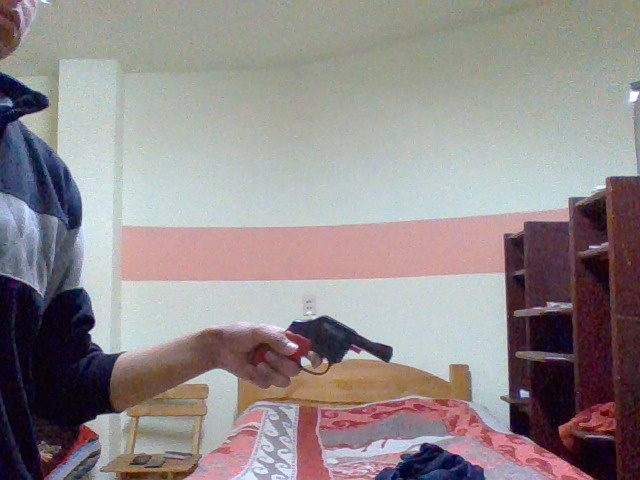pistola: (275, 295, 400, 386)
